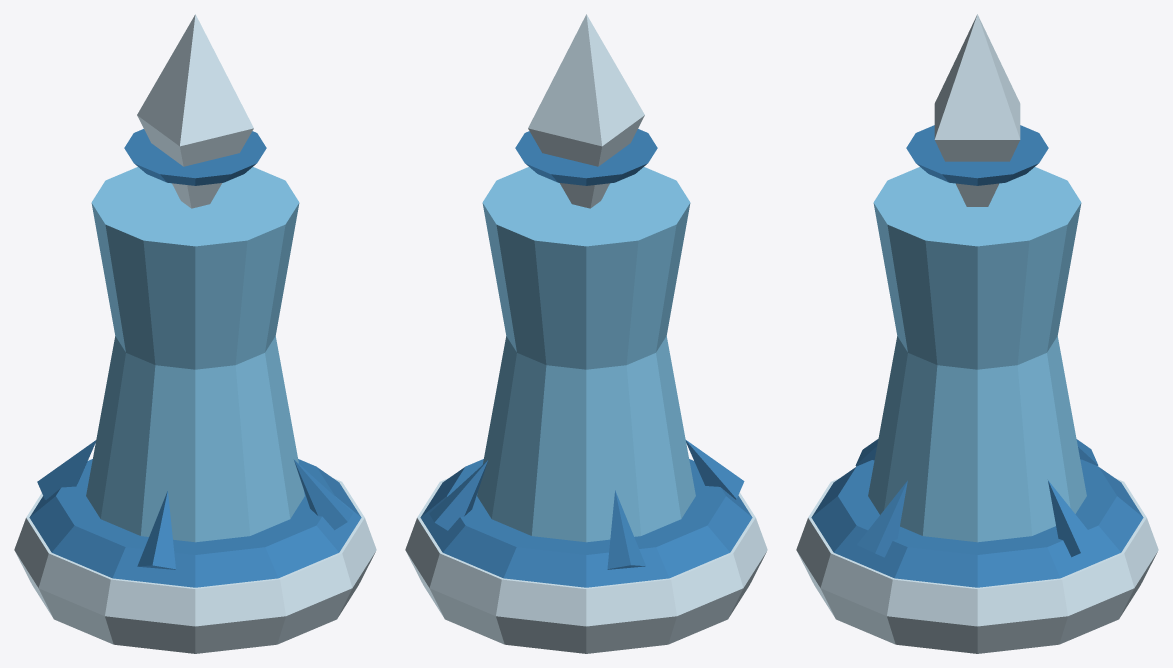
File: tower_frost_l1.glb
The picture shows the model from 3 angles, left to right: view 1: azimuth 30°, elevation 25°; view 2: azimuth 150°, elevation 25°; view 3: azimuth 270°, elevation 25°; orthographic projection.
Parts seen in each view (by area): view 1: tower_frost_l1; view 2: tower_frost_l1; view 3: tower_frost_l1.
Boxes of the visible parts, bbox=[...] form: tower_frost_l1: bbox=[14, 14, 376, 653]; tower_frost_l1: bbox=[405, 14, 767, 653]; tower_frost_l1: bbox=[796, 14, 1158, 653].
Bounding box in the file's own units: 0.61 × 1.06 × 0.61.
